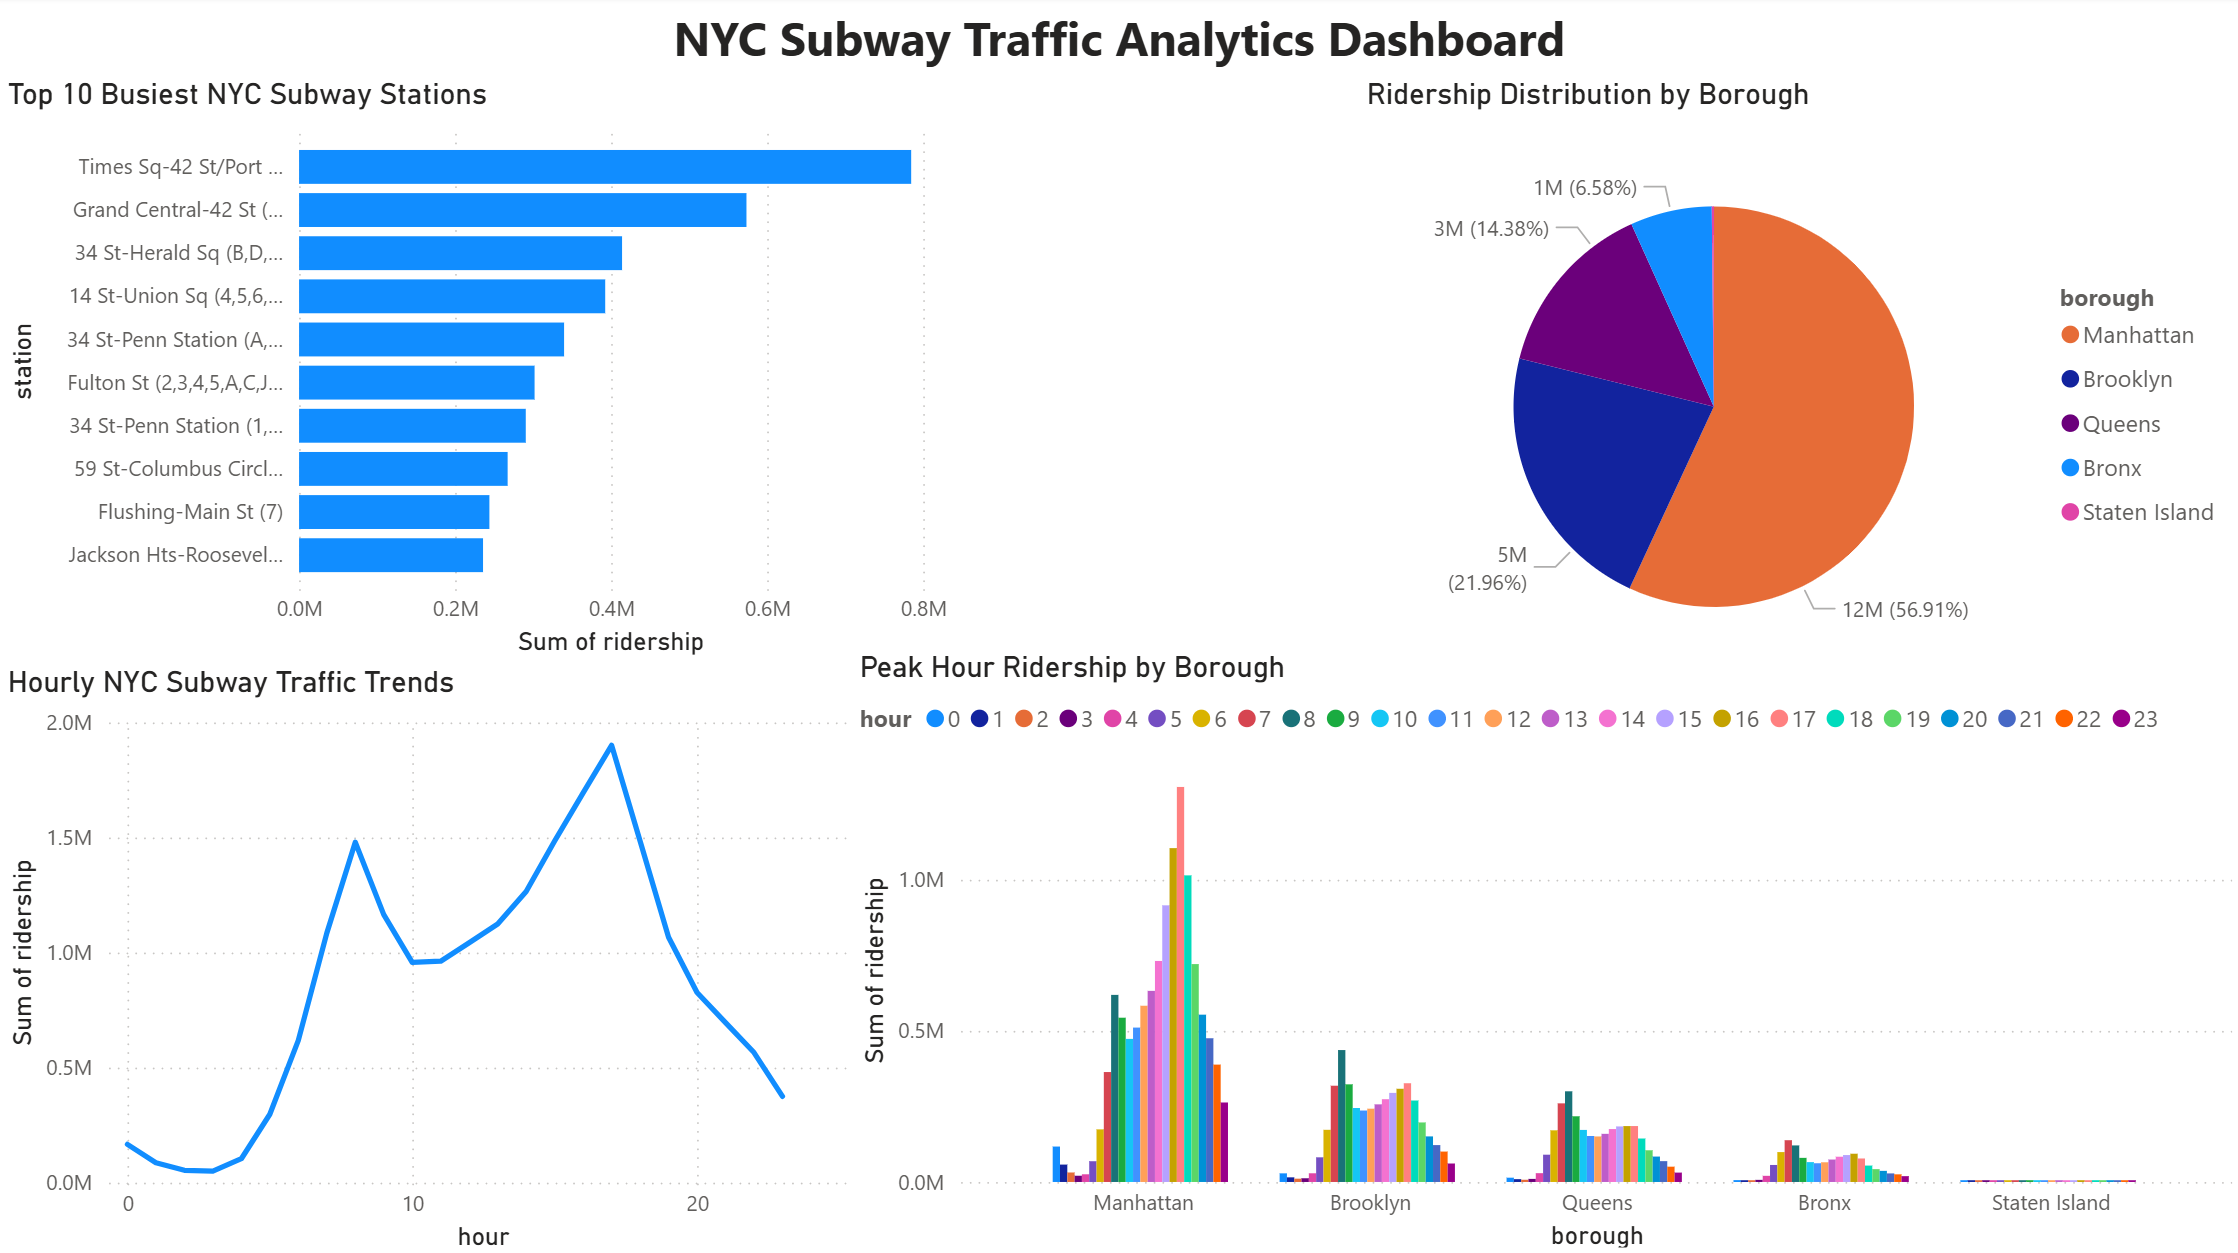

What the dashboard file says about the page in this screenshot:
{"tool":"powerbi","page":{"name":"Page 1","canvas":[1280,720],"ordinal":0},"visuals":[{"type":"clusteredBarChart","title":"Top 10 Busiest NYC Subway Stations","fields":{"Category":["cleaned_ridership.station"],"Y":["Sum(cleaned_ridership.ridership)"]},"box":[11.5,0,607.5,374.8],"z":0},{"type":"lineChart","title":"Hourly NYC Subway Traffic Trends","fields":{"Y":["Sum(cleaned_ridership.ridership)"],"Category":["cleaned_ridership.hour"]},"box":[0,402.3,522.7,317.5],"z":1001},{"type":"pieChart","title":"Ridership Distribution by Borough","fields":{"Category":["cleaned_ridership.borough"],"Y":["Sum(cleaned_ridership.ridership)"]},"box":[639.6,0,528.4,392],"z":1002},{"type":"clusteredColumnChart","title":"Peak Hour Ridership by Borough","fields":{"Y":["Sum(cleaned_ridership.ridership)"],"Category":["cleaned_ridership.borough"],"Series":["cleaned_ridership.hour"]},"box":[514.7,392,765.7,327.8],"z":1003}]}

Visuals, with their boxes in screenshot pixels (x1, y1, x2, y2), scaled from the page's 1280x720 canvas onto the 2238x1253 screenshot:
"Top 10 Busiest NYC Subway Stations" clusteredBarChart: (20,0,1082,652)
"Hourly NYC Subway Traffic Trends" lineChart: (0,700,914,1252)
"Ridership Distribution by Borough" pieChart: (1118,0,2042,682)
"Peak Hour Ridership by Borough" clusteredColumnChart: (900,682,2237,1252)
